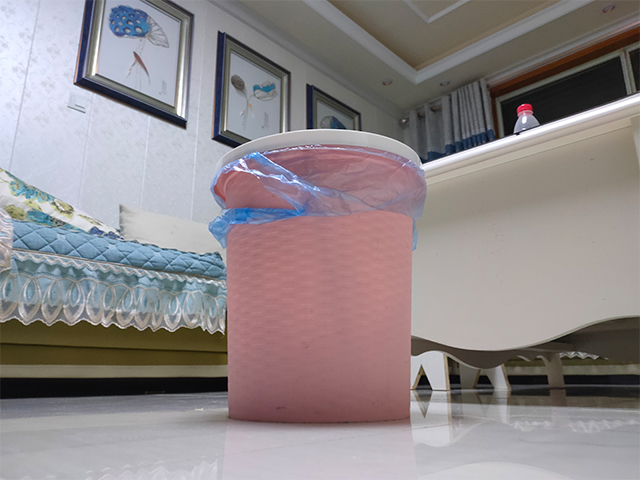sofa: (1, 165, 229, 379)
table: (410, 89, 640, 390)
trashcan: (208, 126, 427, 425)
